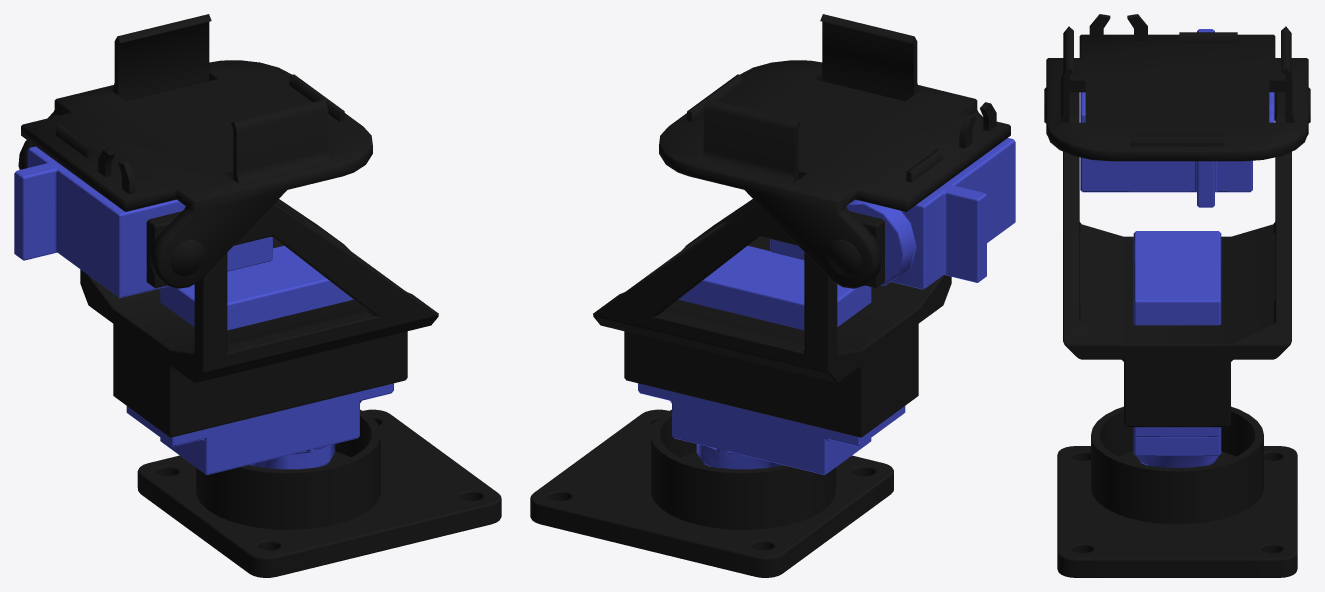
File: Pan-tilt.fbx
The picture shows the model from 3 angles, left to right: view 1: azimuth 30°, elevation 25°; view 2: azimuth 150°, elevation 25°; view 3: azimuth 270°, elevation 25°; orthographic projection. The views are drawn at different scales.
Parts seen in each view (by area): view 1: Plane.005, Plane.002, Plane; view 2: Plane.005, Plane.002, Plane; view 3: Plane.002, Plane.005, Plane.
Part boxes in pixels (bbox=[...]): Plane.005: bbox=[14, 14, 372, 297]; Plane.002: bbox=[33, 144, 438, 474]; Plane: bbox=[137, 409, 501, 577]; Plane.005: bbox=[659, 14, 1015, 289]; Plane.002: bbox=[593, 199, 951, 475]; Plane: bbox=[530, 409, 893, 577]; Plane.002: bbox=[1063, 92, 1291, 467]; Plane.005: bbox=[1044, 14, 1310, 207]; Plane: bbox=[1057, 406, 1297, 577].
Size of the model in its own units: 6.09 by 6.51 by 3.66.
